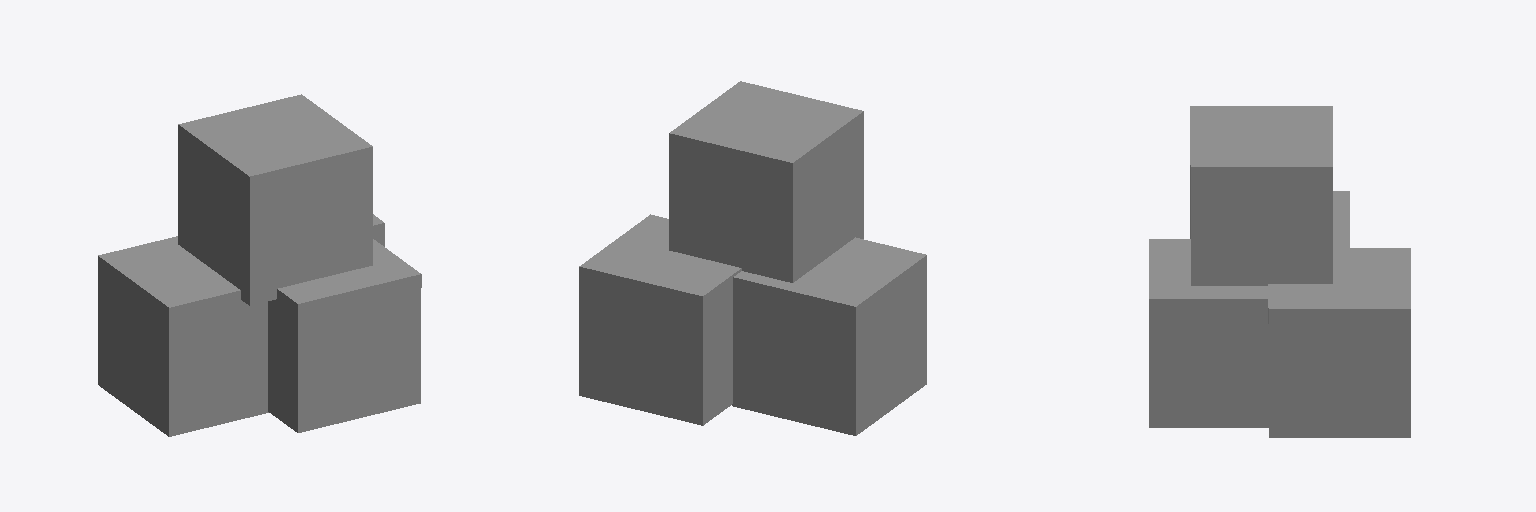
Rendered from tntpack.obj.
The picture shows the model from 3 angles: view 1: azimuth 30°, elevation 25°; view 2: azimuth 150°, elevation 25°; view 3: azimuth 270°, elevation 25°; orthographic projection.
Parts seen in each view (by area): view 1: Cube.002_Cube.005, Cube.000_Cube.004, Cube.001; view 2: Cube.002_Cube.005, Cube.000_Cube.004, Cube.003_Cube.006; view 3: Cube.002_Cube.005, Cube.003_Cube.006, Cube.001, Cube.000_Cube.004.
Part boxes in pixels (x1,y1,x2,y2): Cube.002_Cube.005: (178,94,372,305); Cube.000_Cube.004: (98,236,268,436); Cube.001: (268,239,421,432); Cube.002_Cube.005: (669,81,863,282); Cube.000_Cube.004: (732,237,926,435); Cube.003_Cube.006: (579,214,741,425); Cube.002_Cube.005: (1190,106,1332,285); Cube.003_Cube.006: (1268,248,1410,437); Cube.001: (1149,239,1268,427); Cube.000_Cube.004: (1333,191,1349,247).
Size of the model in its own units: 3.99 by 3.86 by 3.68.